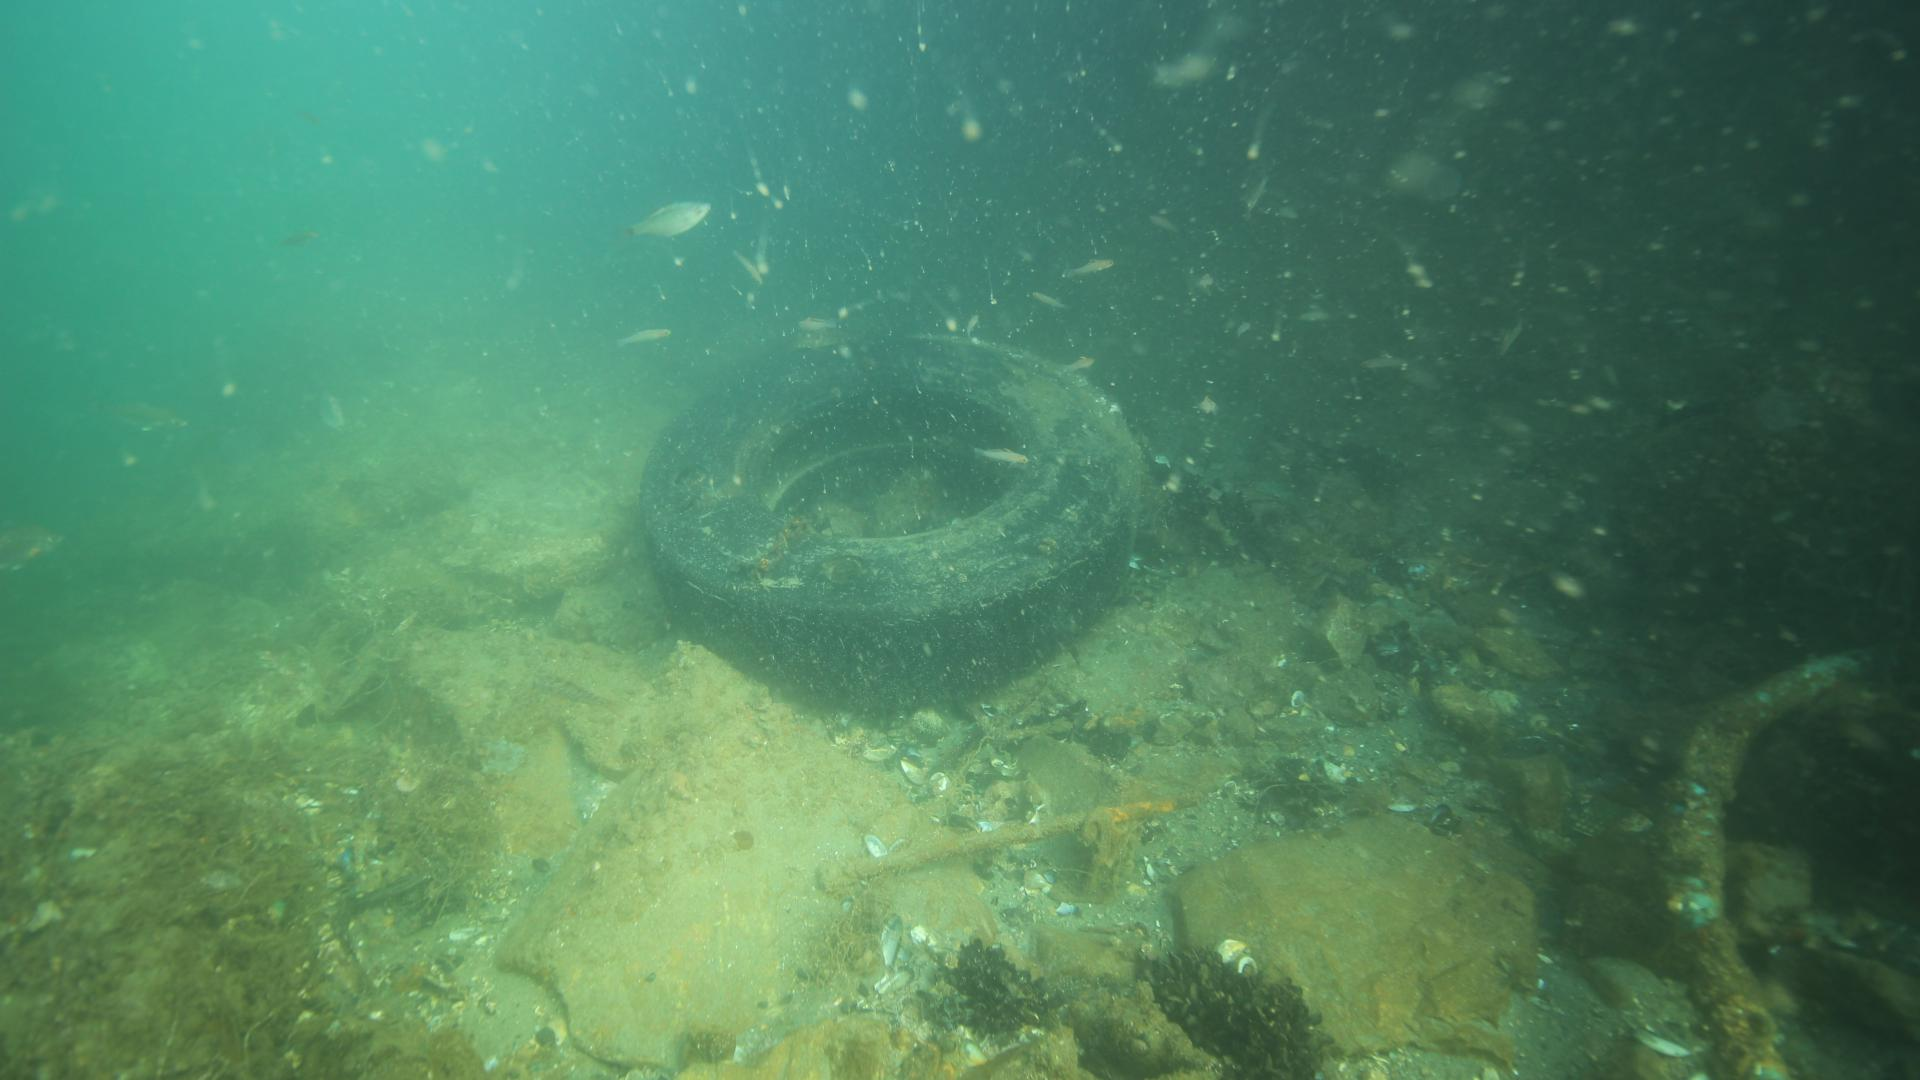tire: (634, 327, 1147, 712)
